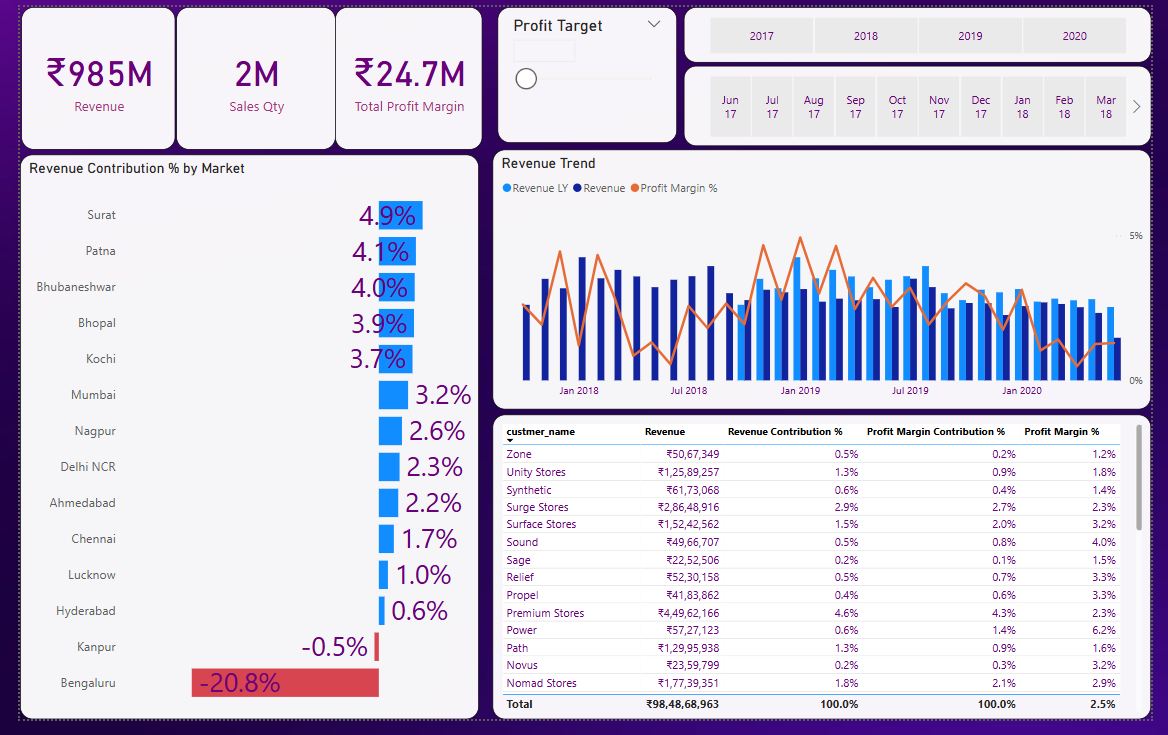

What the dashboard file says about the page in this screenshot:
{"tool":"powerbi","page":{"name":"Performance Insights","canvas":[1350,850],"ordinal":2},"visuals":[{"type":"card","fields":{"Values":["BaseMeasures (2).Revenue"]},"box":[2,0,184,170],"z":0},{"type":"card","fields":{"Values":["BaseMeasures (2).Sales Qty"]},"box":[186,0,190,170],"z":1000},{"type":"slicer","fields":{"Values":["sales date.year"]},"box":[792,0,558,66],"z":2000},{"type":"slicer","fields":{"Values":["sales date.cy_date"]},"box":[792,70,558,96],"z":3000},{"type":"tableEx","title":"Top 5 Customers","fields":{"Values":["sales customers.custmer_name","BaseMeasures (2).Revenue","BaseMeasures (2).Revenue Contribution %","BaseMeasures (2).Profit Margin Contribution %","BaseMeasures (2).Profit Margin %"]},"box":[564,486,786,364],"z":4000},{"type":"lineClusteredColumnComboChart","title":"Revenue Trend","fields":{"Category":["sales date.cy_date"],"Y":["BaseMeasures (2).Revenue LY","BaseMeasures (2).Revenue"],"Y2":["BaseMeasures (2).Profit Margin %"]},"box":[564,170,786,310],"z":5000},{"type":"card","fields":{"Values":["BaseMeasures (2).Total Profit Margin"]},"box":[376,0,176,170],"z":6000},{"type":"barChart","title":"Revenue Contribution % by Market","fields":{"Y":["BaseMeasures (2).Profit Margin %"],"Category":["sales markets.zone","sales markets.markets_name","sales customers.custmer_name","sales products.product_code"]},"box":[0,175.9,548.1,674.1],"z":7000},{"type":"slicer","fields":{"Values":["Profit Target.Profit Target"]},"box":[570,0,214,162],"z":8000}]}

Visuals, with their boxes in screenshot pixels (x1, y1, x2, y2), scaled from the page's 1350x850 canvas onto the 1168x735 screenshot:
card - BaseMeasures (2).Revenue: {"left": 2, "top": 0, "right": 161, "bottom": 147}
card - BaseMeasures (2).Sales Qty: {"left": 161, "top": 0, "right": 325, "bottom": 147}
slicer - sales date.year: {"left": 685, "top": 0, "right": 1167, "bottom": 57}
slicer - sales date.cy_date: {"left": 685, "top": 61, "right": 1167, "bottom": 144}
"Top 5 Customers" tableEx: {"left": 488, "top": 420, "right": 1167, "bottom": 734}
"Revenue Trend" lineClusteredColumnComboChart: {"left": 488, "top": 147, "right": 1167, "bottom": 415}
card - BaseMeasures (2).Total Profit Margin: {"left": 325, "top": 0, "right": 478, "bottom": 147}
"Revenue Contribution % by Market" barChart: {"left": 0, "top": 152, "right": 474, "bottom": 734}
slicer - Profit Target.Profit Target: {"left": 493, "top": 0, "right": 678, "bottom": 140}
